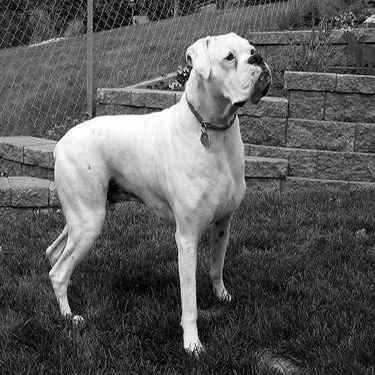dog: (41, 25, 278, 362)
